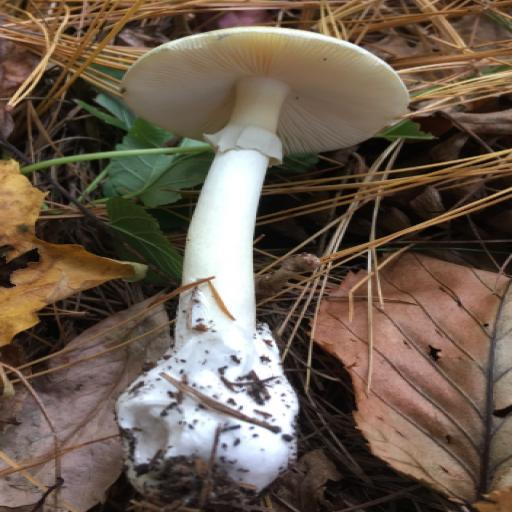mushroom: (16, 0, 416, 512)
